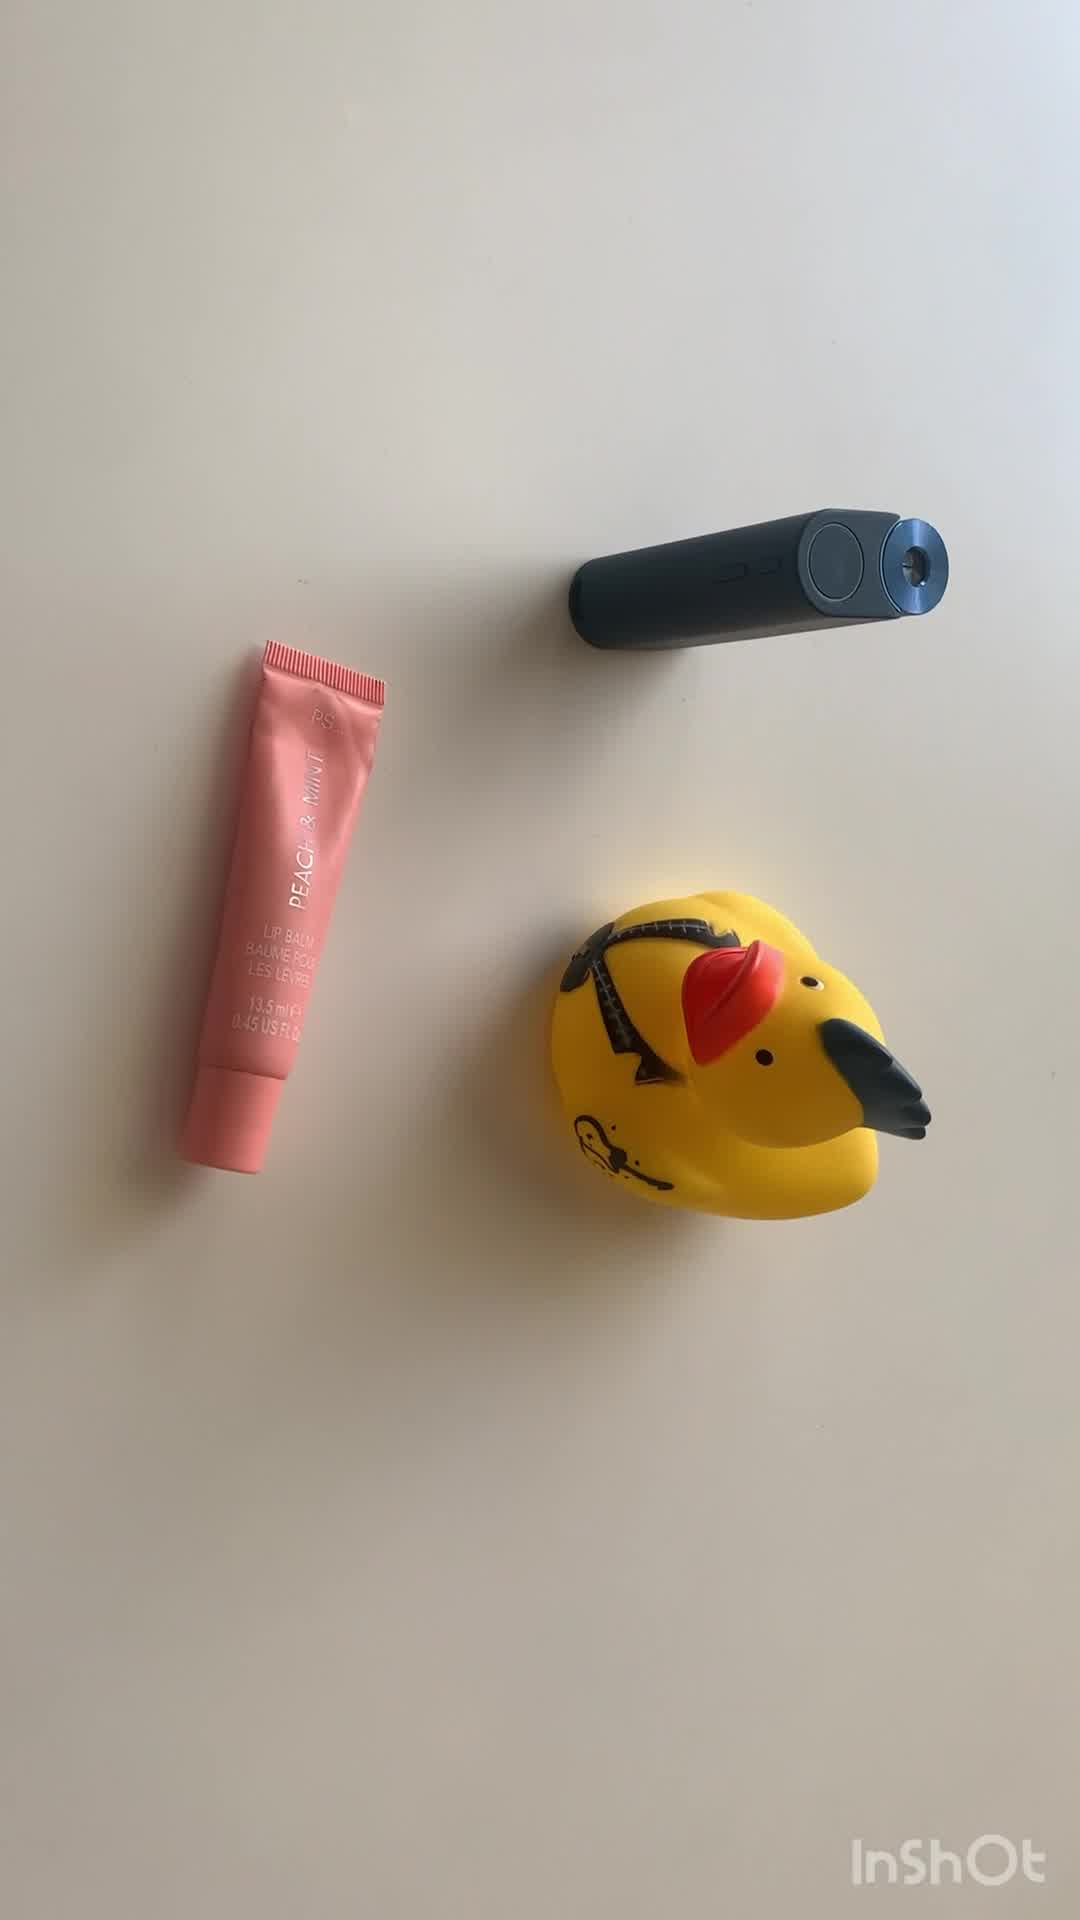duck: (531, 882, 936, 1226)
glo: (564, 502, 949, 659)
lip balm: (174, 636, 386, 1180)
